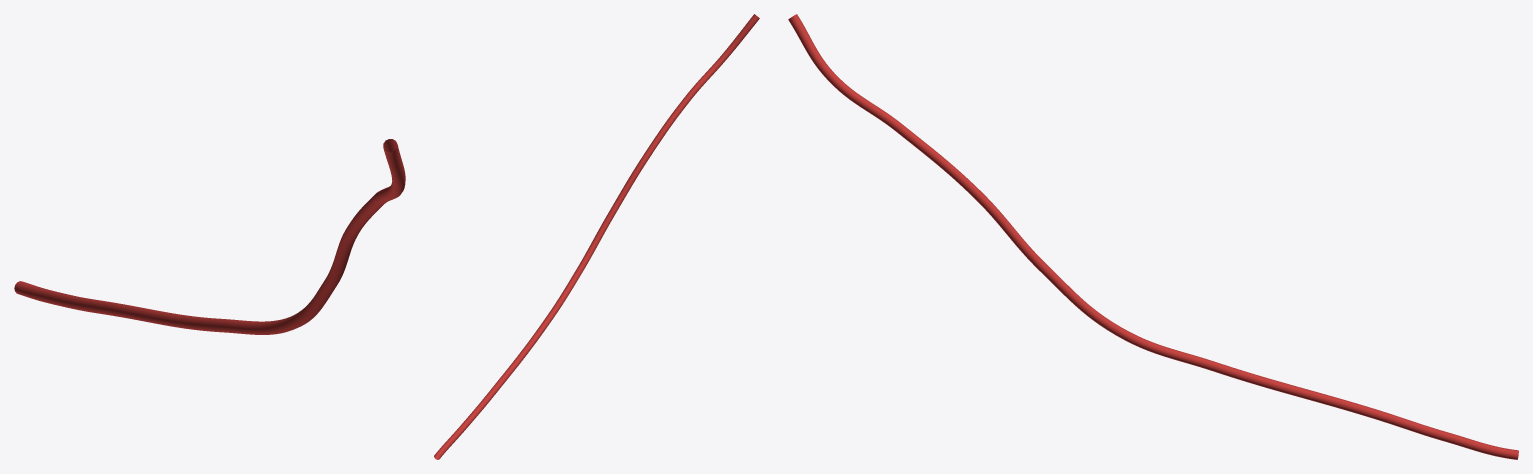
3 renders of one model, left to right at view 1: azimuth 30°, elevation 25°; view 2: azimuth 150°, elevation 25°; view 3: azimuth 270°, elevation 25°, orthographic. The views are drawn at different scales.
Parts seen in each view (by area): view 1: 右侧胸廓内动脉; view 2: 右侧胸廓内动脉; view 3: 右侧胸廓内动脉.
Boxes of the visible parts, x1,y1,x2,y2 form: 右侧胸廓内动脉: (14,139,405,334); 右侧胸廓内动脉: (434,14,759,459); 右侧胸廓内动脉: (788,14,1518,459).
Bounding box in the file's own units: 0.0425 × 0.1531 × 0.2544.
